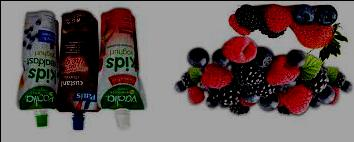Plastic: (96, 6, 147, 129)
